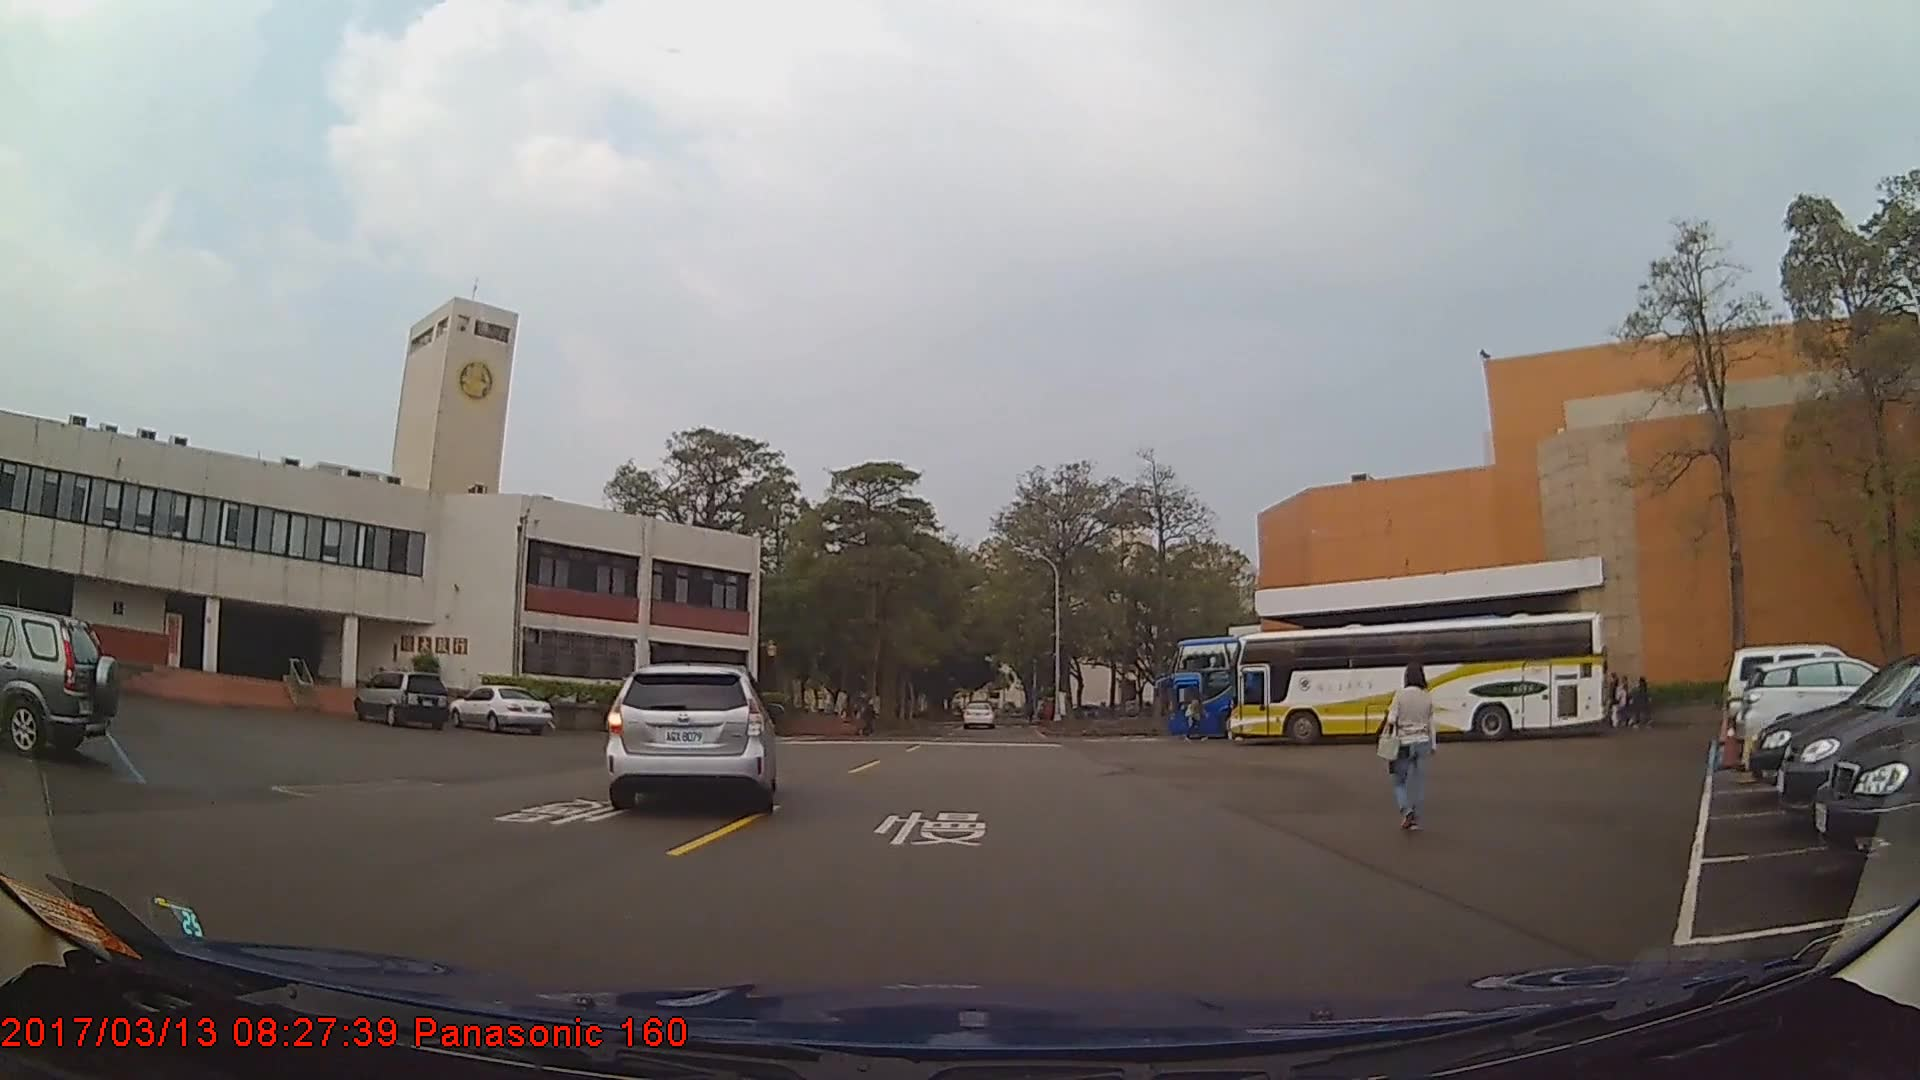pedestrian: (1376, 657, 1438, 835), (1626, 667, 1658, 731)
vehicle: (1226, 611, 1608, 748), (1163, 635, 1480, 738), (1777, 656, 1920, 840), (606, 661, 771, 810), (0, 603, 119, 762), (1734, 655, 1916, 756), (351, 670, 450, 727), (446, 683, 552, 733), (962, 701, 995, 730)
